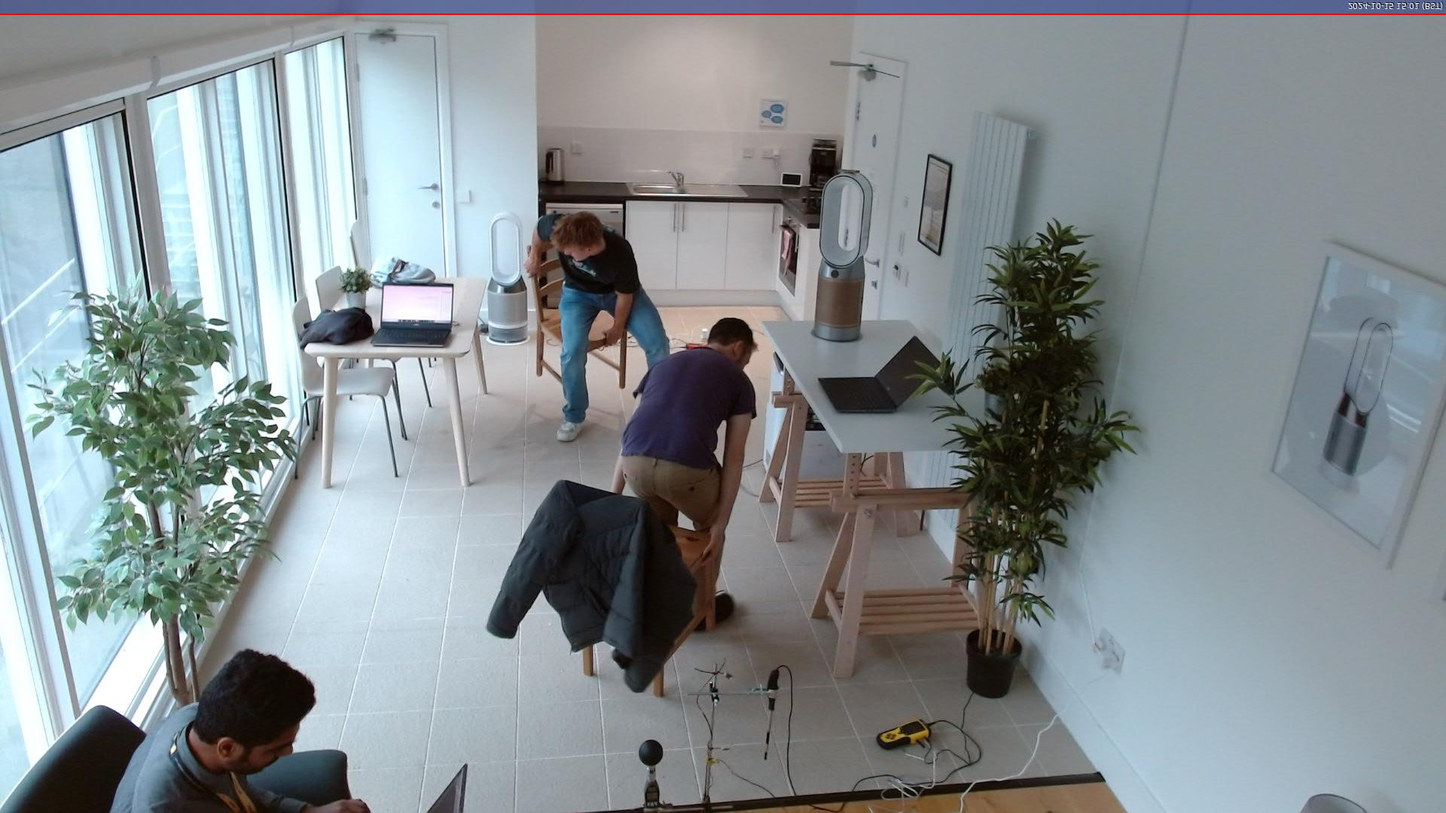long sleeve shirt: (105, 701, 318, 813)
short sleeve shirt: (617, 348, 761, 470), (532, 212, 640, 296)
trousers: (557, 280, 673, 425), (619, 453, 728, 607)
